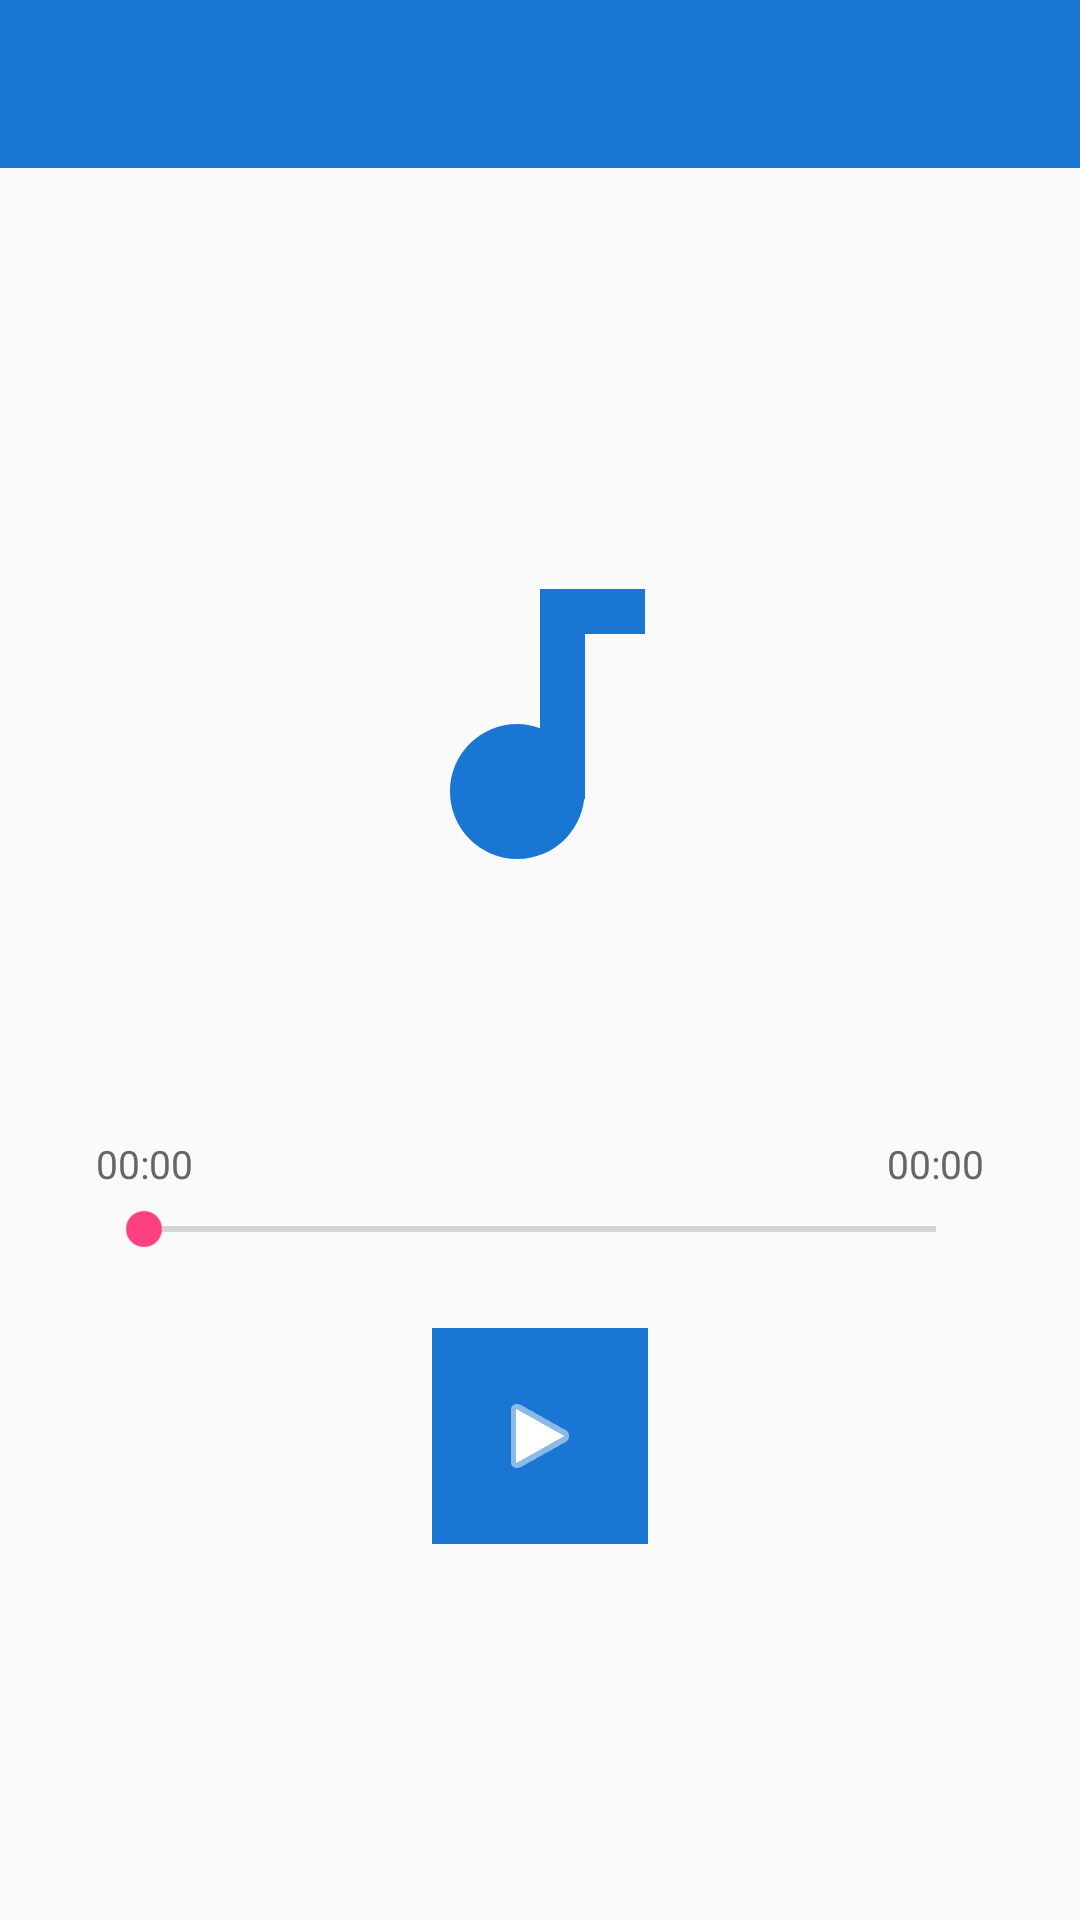

Icons on this 1080*1920 Android screen, each with its box as (x1=x1, y1=y1, x2=x2, y2=y2):
播放/暂停: (x1=432, y1=1328, x2=648, y2=1544)
音频图标: (x1=450, y1=589, x2=645, y2=859)
